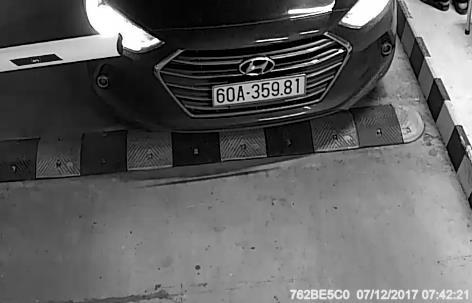License-plate: (199, 77, 331, 114)
